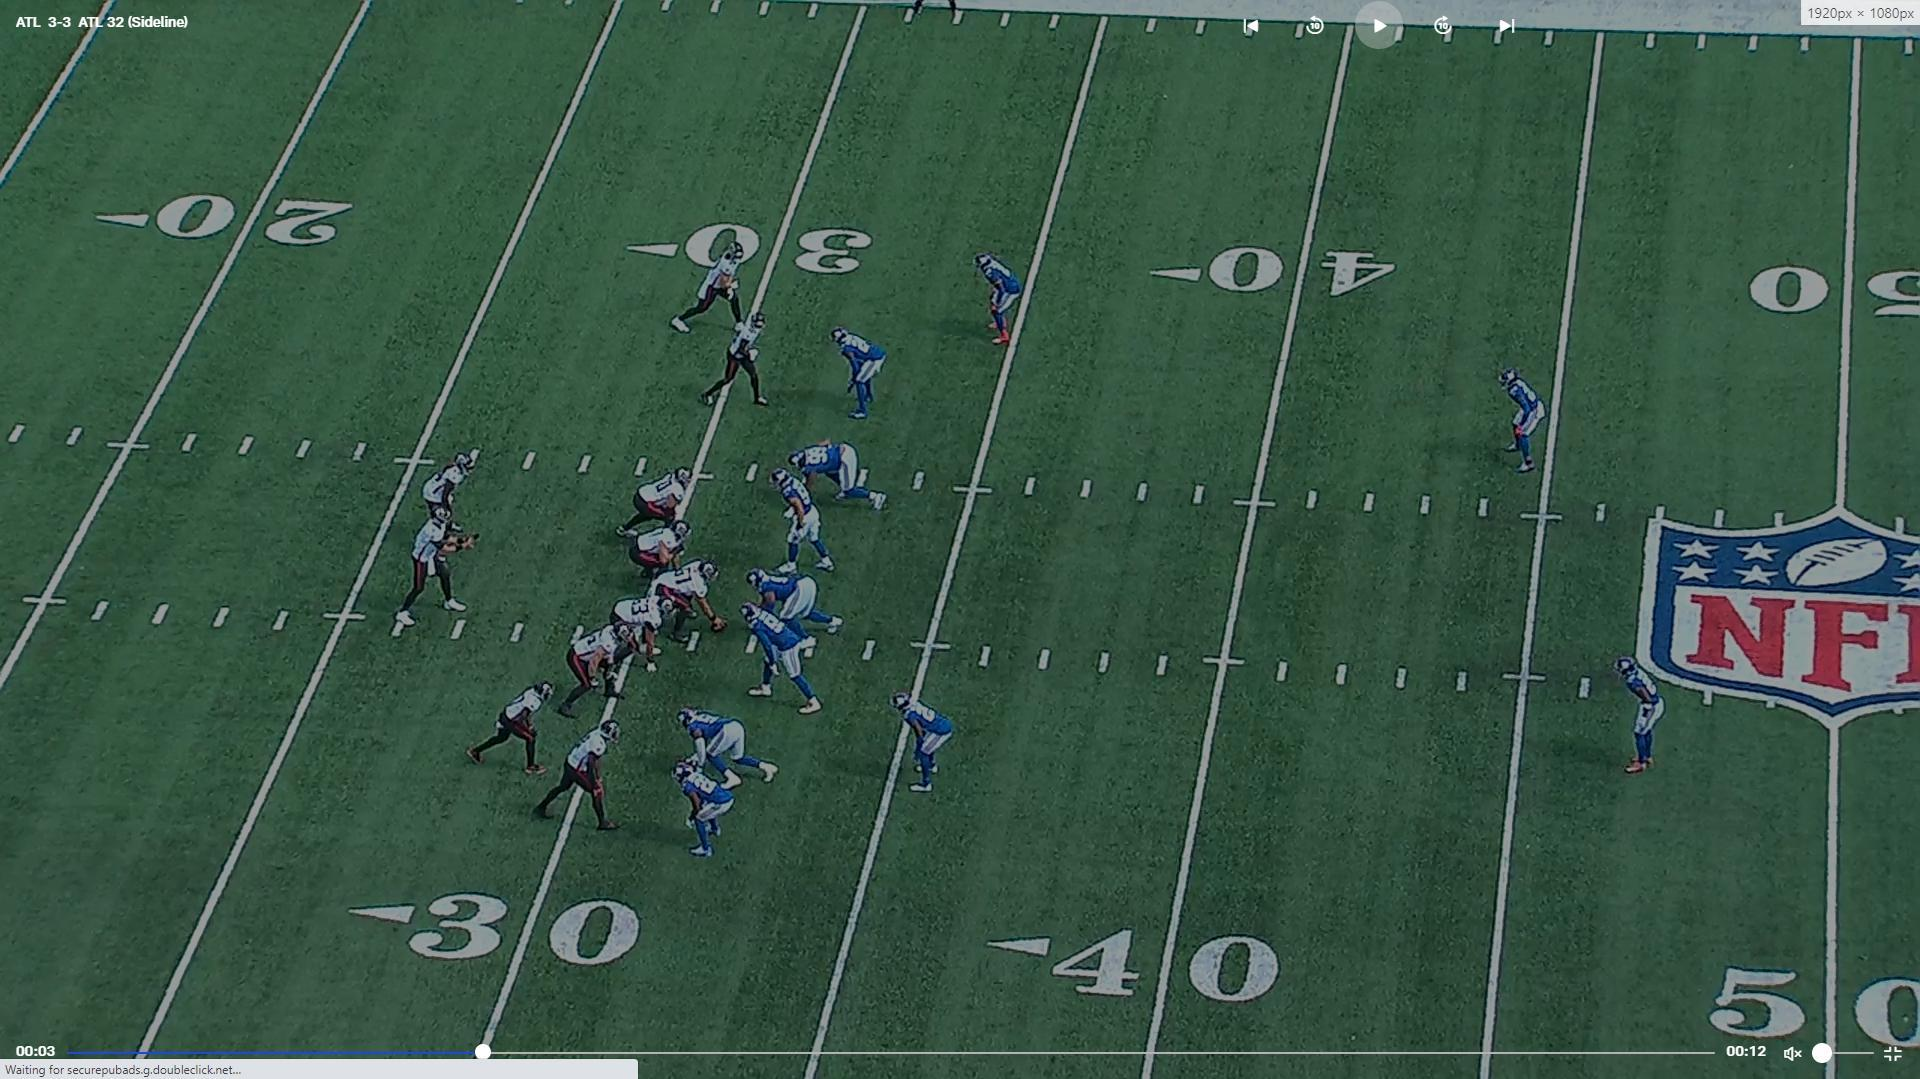player: (392, 506, 480, 636), (532, 719, 619, 831), (740, 605, 824, 718), (464, 678, 558, 777), (669, 242, 757, 346), (676, 705, 781, 790), (782, 439, 890, 515), (696, 310, 775, 413), (646, 563, 726, 653), (777, 468, 843, 577), (894, 688, 958, 797), (563, 626, 636, 721), (744, 566, 843, 636), (422, 445, 484, 556), (1611, 655, 1664, 784), (670, 763, 733, 864), (618, 465, 698, 540), (976, 249, 1032, 355), (829, 322, 887, 423), (607, 590, 674, 675), (1498, 364, 1547, 477), (628, 524, 693, 587)
